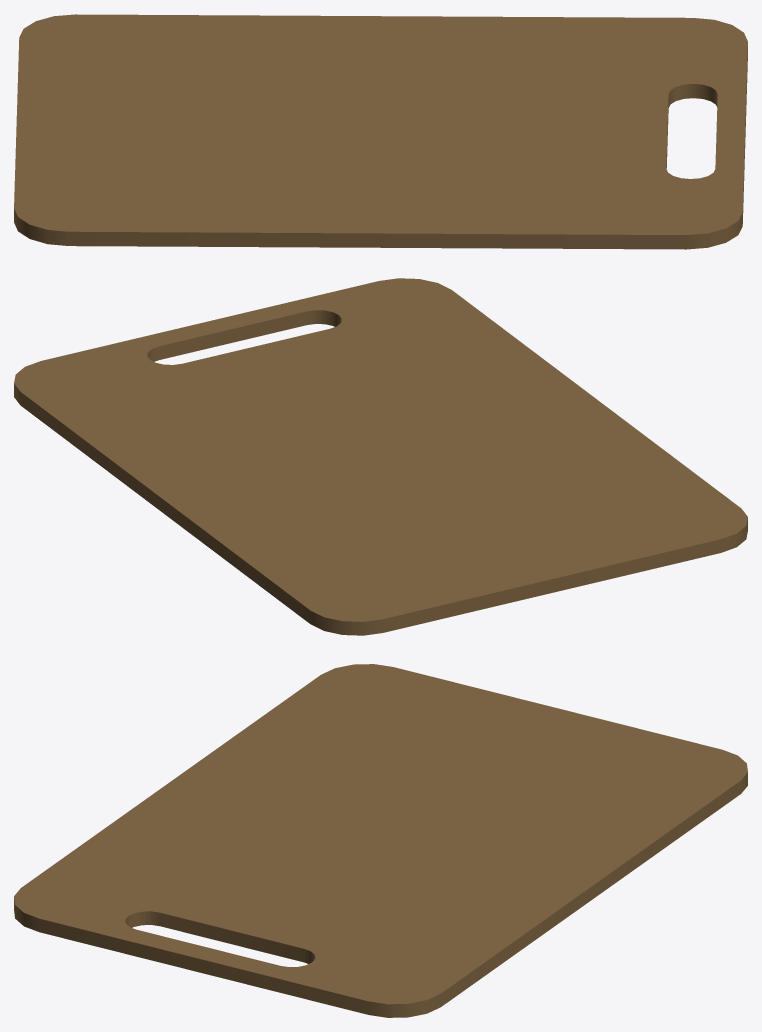
Rendered from CuttingBoard.fbx.
3 renders of one model, top to bottom at view 1: azimuth 30°, elevation 25°; view 2: azimuth 150°, elevation 25°; view 3: azimuth 270°, elevation 25°, orthographic. The views are drawn at different scales.
Parts seen in each view (by area): view 1: SM_CuttingBoard_Small_Trays_0.001; view 2: SM_CuttingBoard_Small_Trays_0.001; view 3: SM_CuttingBoard_Small_Trays_0.001.
Boxes of the visible parts, x1=… form: SM_CuttingBoard_Small_Trays_0.001: x1=14, y1=14, x2=747, y2=249; SM_CuttingBoard_Small_Trays_0.001: x1=14, y1=278, x2=747, y2=635; SM_CuttingBoard_Small_Trays_0.001: x1=14, y1=664, x2=747, y2=1017.
Bounding box in the file's own units: 6093 × 114 × 5555.
